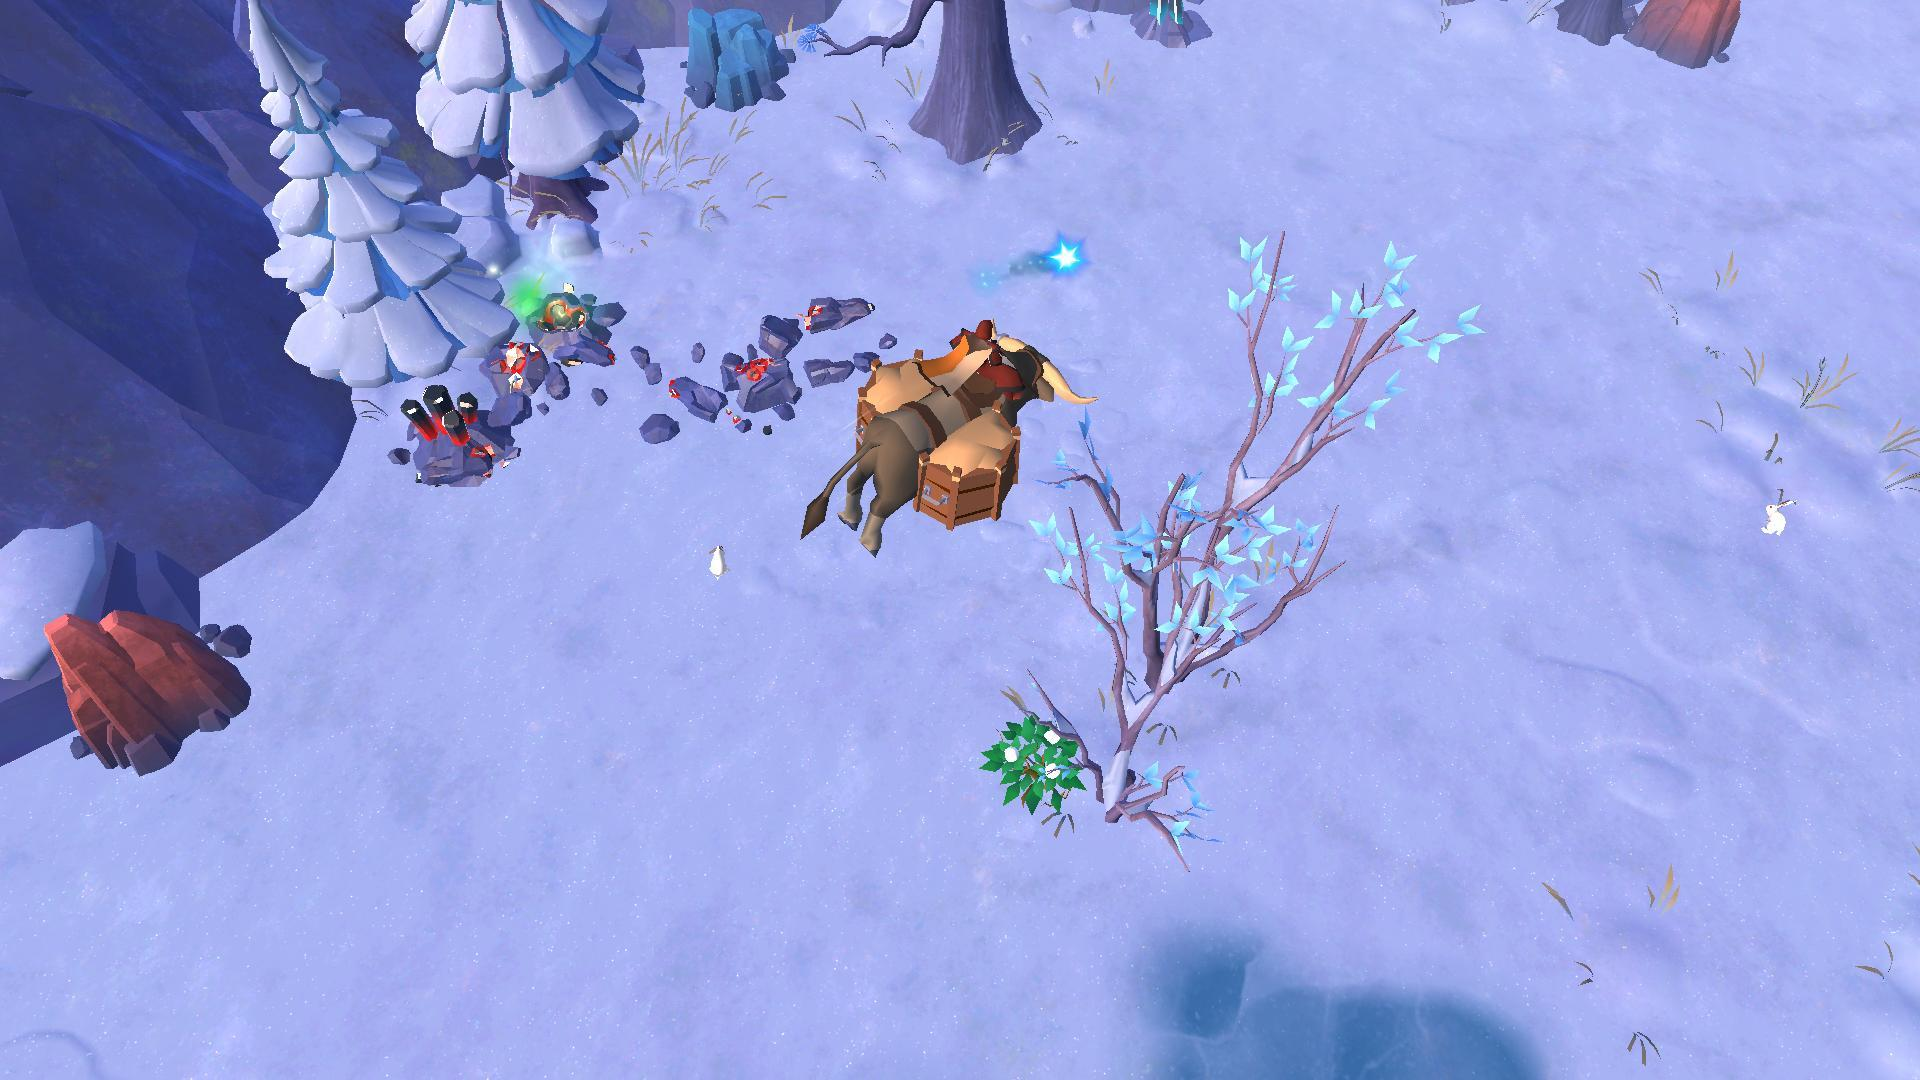fiber_t3: (977, 712, 1085, 814)
ore_t4: (1141, 0, 1189, 36)
ore_t5: (402, 378, 492, 446)
rock_t4: (671, 5, 800, 117)
rock_t5: (1626, 0, 1753, 79)
